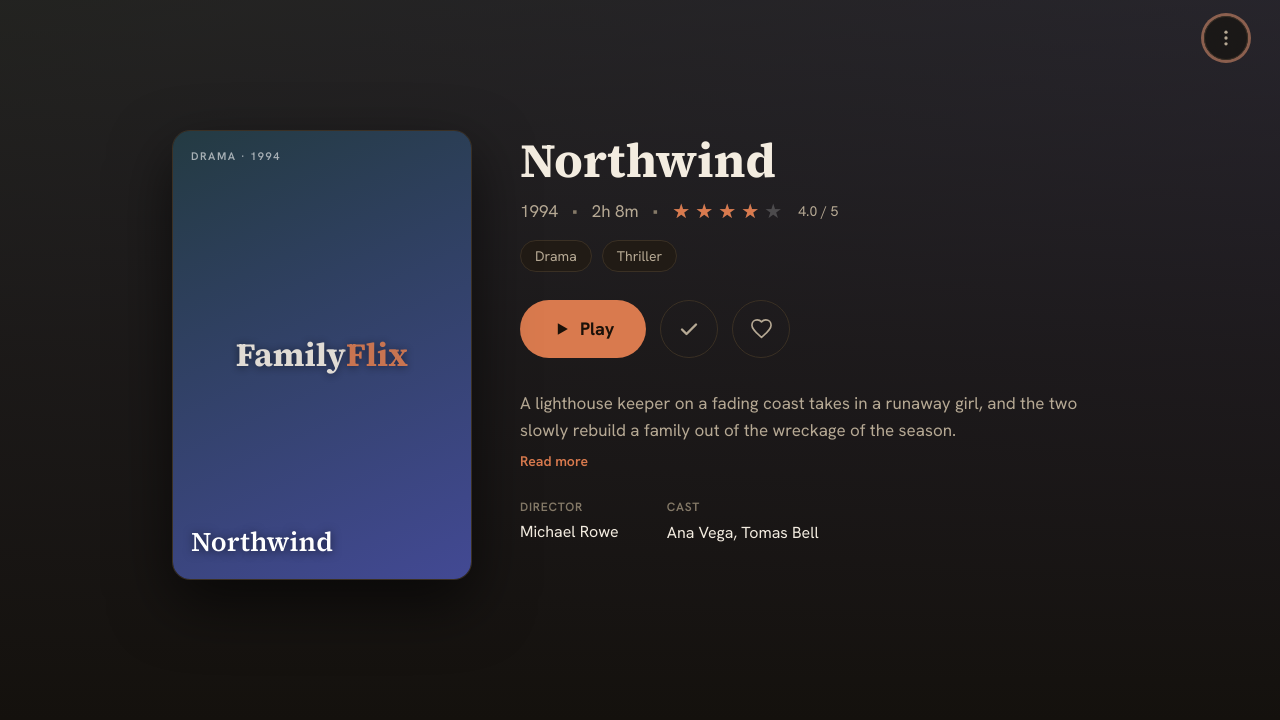
Scenario: MovieDetail — deleting the movie › opens a dialog that names the movie on the page
The width and height of the screenshot is (1280, 720).
Click the button named "more options". click: (1226, 38)
box: [1204,16,1248,60]
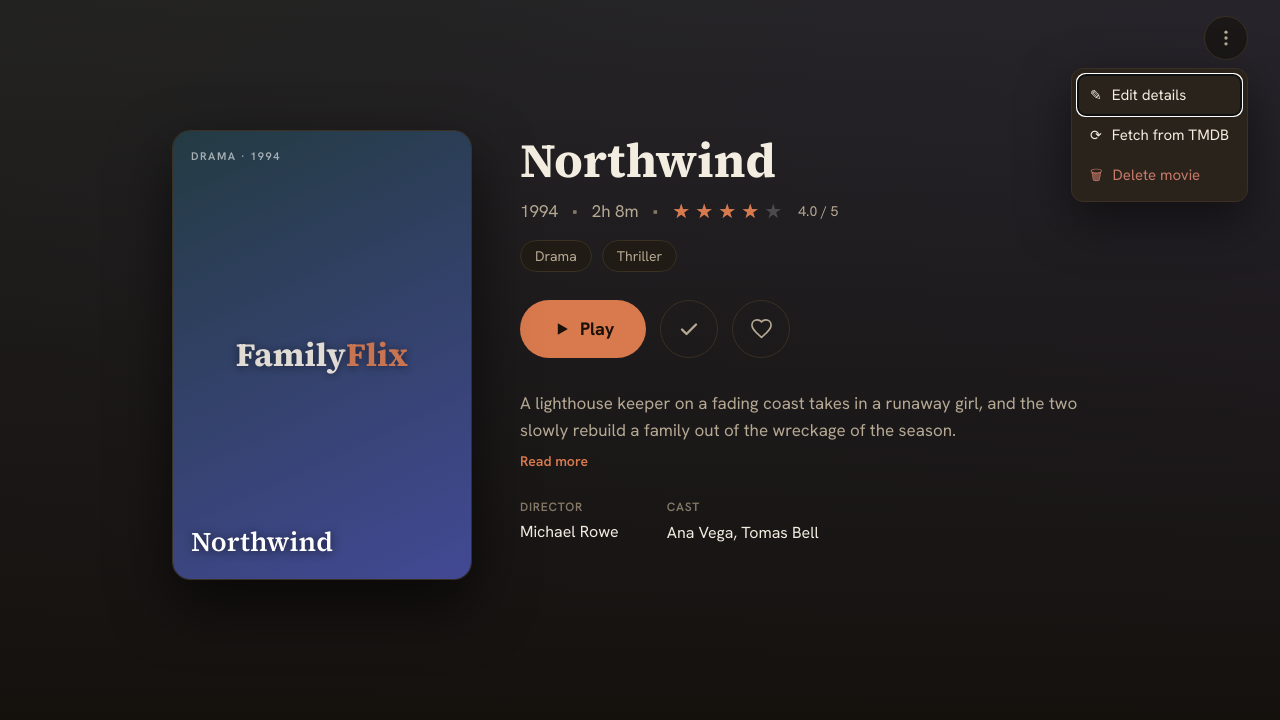
Click the menu item "🗑 Delete movie". click: (1160, 175)
box: [1078,155,1241,195]
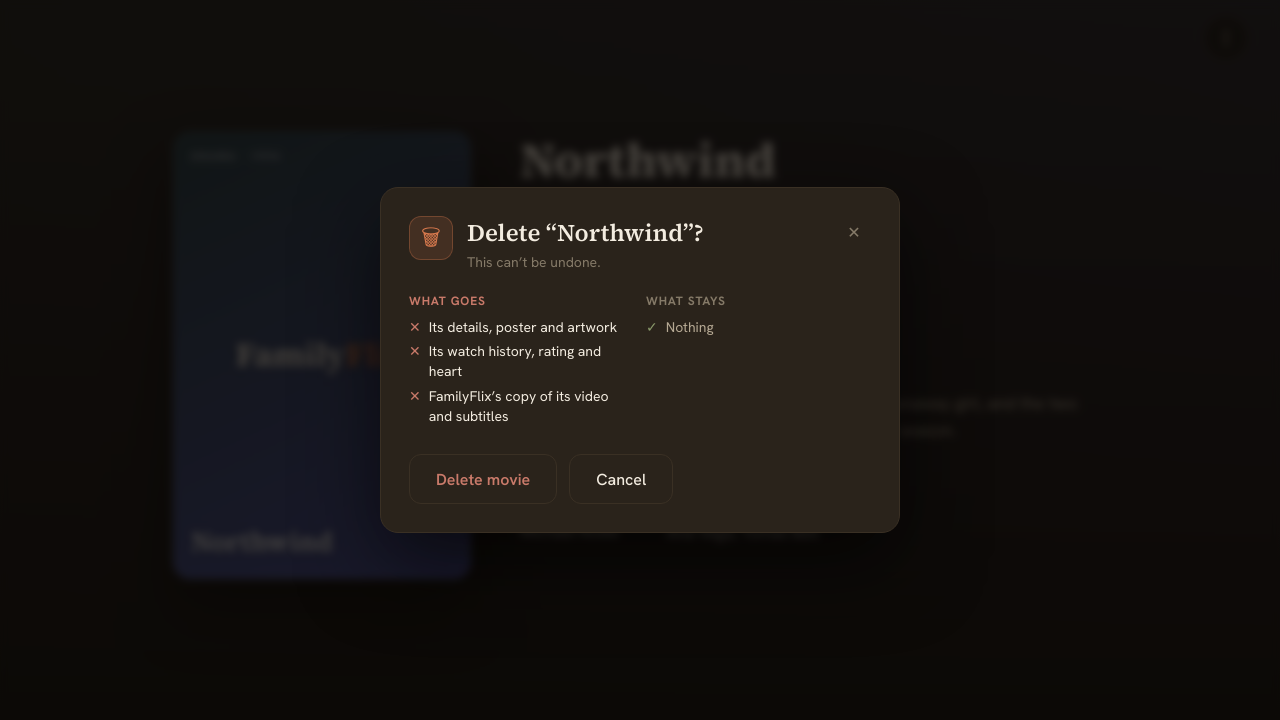
Now the button "Delete movie" is shown, box [409,454,557,504]
Now the dialog "Delete “Northwind”?" is shown, box [380,187,900,533]
